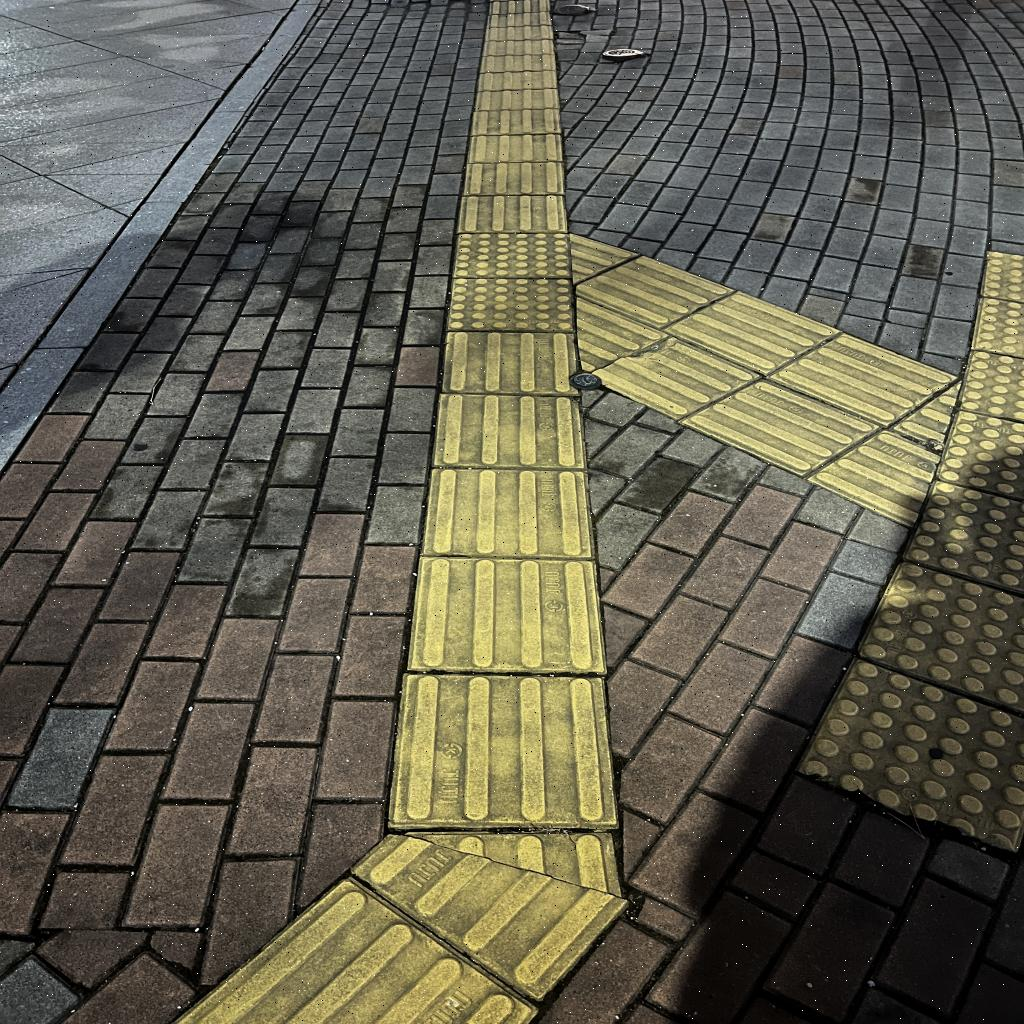Stop block normal: (448, 279, 575, 330), (454, 233, 570, 278)
Straight block broken: (586, 313, 760, 442)
Straight block normal: (393, 673, 617, 825), (679, 356, 878, 495), (767, 314, 955, 442), (409, 559, 604, 670), (665, 273, 838, 392), (423, 470, 593, 556), (434, 395, 585, 468), (443, 333, 578, 394), (459, 195, 565, 232), (464, 162, 564, 195)
